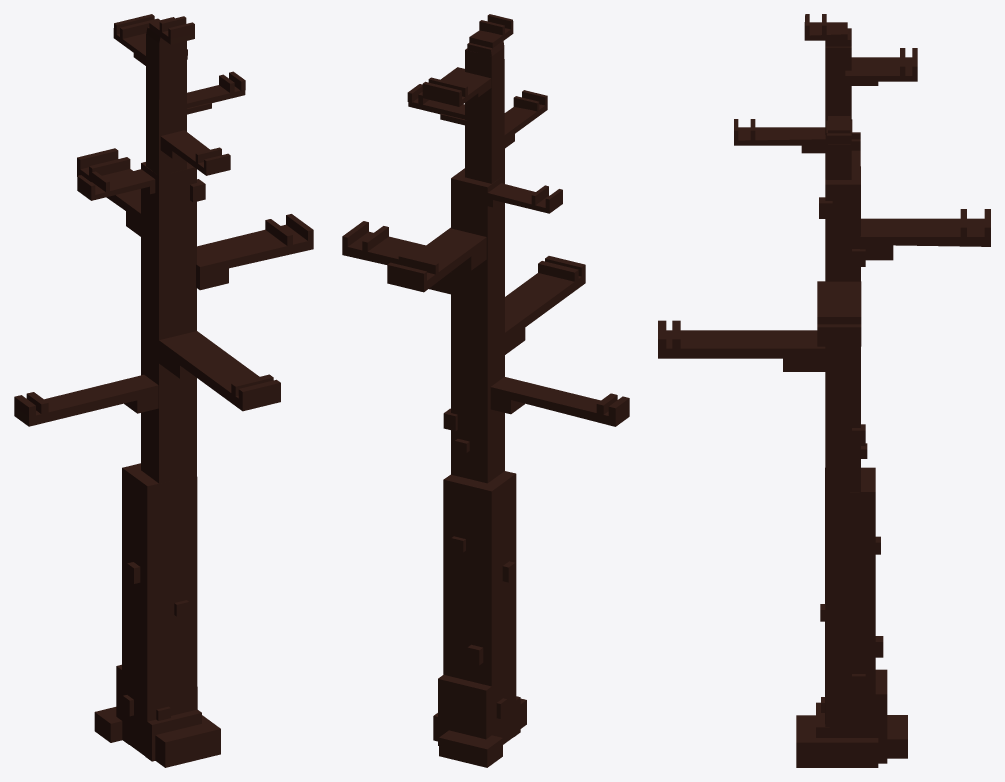
Rendered from Pine (Trunk).glb.
The picture shows the model from 3 angles, left to right: view 1: azimuth 30°, elevation 25°; view 2: azimuth 150°, elevation 25°; view 3: azimuth 270°, elevation 25°; orthographic projection. The views are drawn at different scales.
Parts seen in each view (by area): view 1: Trunk; view 2: Trunk; view 3: Trunk.
Boxes of the visible parts, x1,y1,x2,y2 form: Trunk: (14,14,313,767); Trunk: (342,14,629,767); Trunk: (658,14,990,767).
Bounding box in the file's own units: 1.87 × 4.66 × 1.92.
